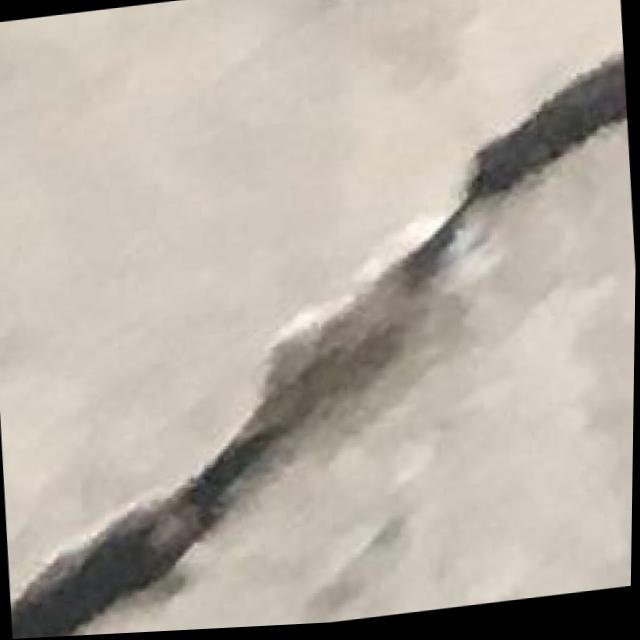Crack: (0, 90, 639, 640)
